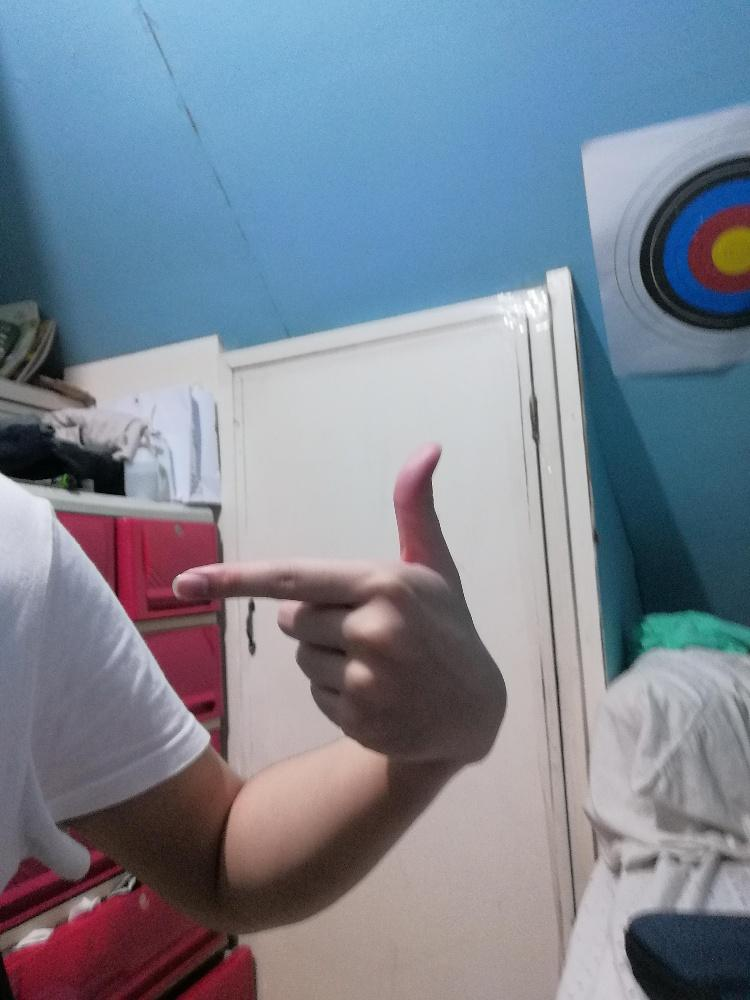g: (178, 437, 505, 763)
